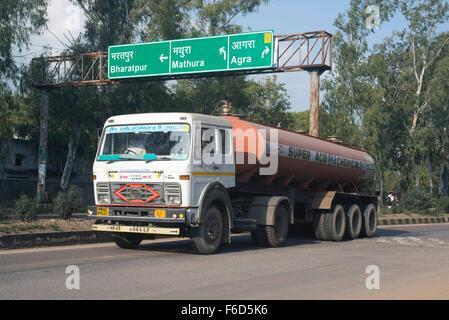truck: (86, 106, 250, 257)
